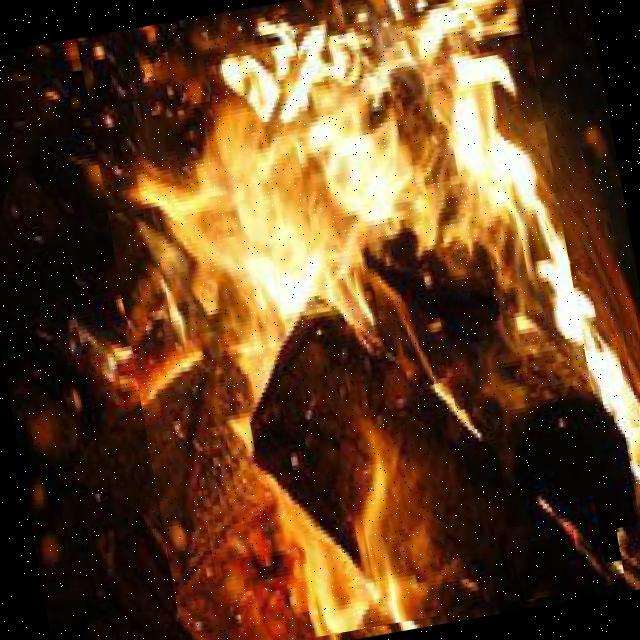fire: (76, 0, 625, 640)
